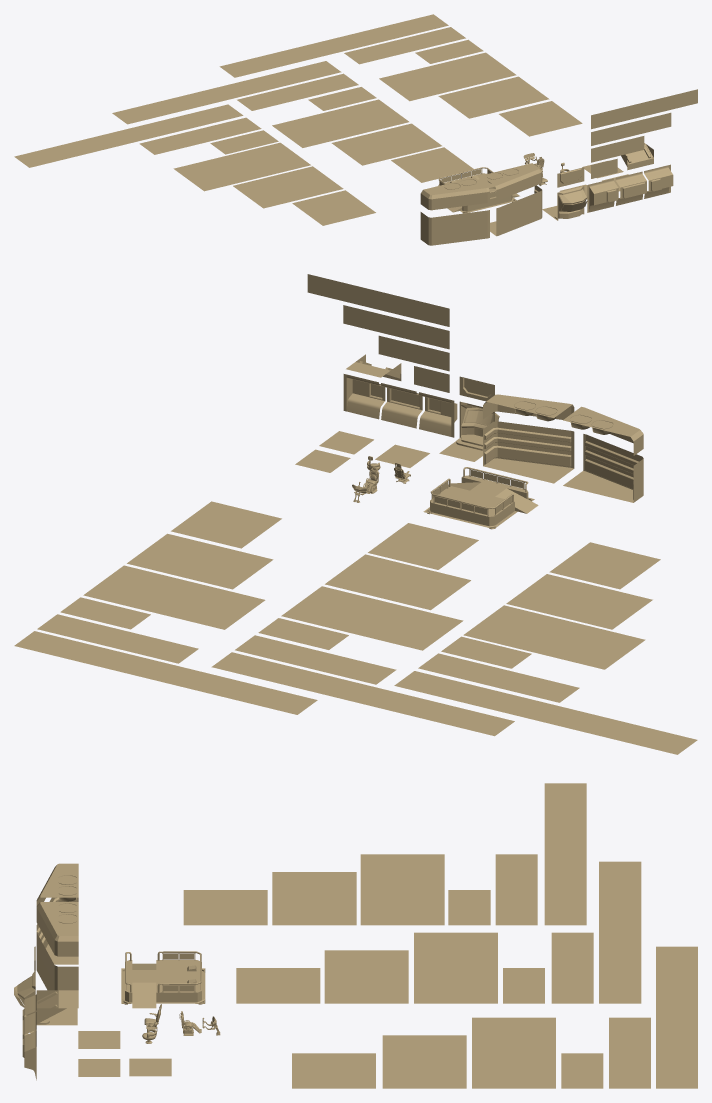
File: Main_Room.fbx
3 views of the same model, one above another, from view 1: azimuth 30°, elevation 25°; view 2: azimuth 150°, elevation 25°; view 3: azimuth 270°, elevation 25° (orthographic). The views are drawn at different scales.
Parts seen in each view (by area): view 1: MR_v9_7, MR_v8_7, MR_v10_7, MR_v9_4, MR_v10_4, MR_v8_4, MR_v9_3, MR_v8_3, MR_v10_3, MR_v2_2, MR_v9_6, MR_v10_6 (+21 smaller); view 2: MR_v9_7, MR_v10_7, MR_v8_7, MR_v8_4, MR_v9_4, MR_v10_4, MR_v2_1, MR_v10_3, MR_v9_3, MR_v8_3, MR_v1_1, MR_v2_2 (+22 smaller); view 3: MR_v8_7, MR_v10_7, MR_v10_4, MR_v9_4, MR_v8_4, MR_v9_7, MR_v9_3, MR_v8_3, MR_v10_3, MR_v1_1, MR_v8_6, MR_v10_6 (+17 smaller).
Boxes of the visible parts, left/top/right/bottom form: MR_v9_7: left=219, top=14, right=448, bottom=77; MR_v8_7: left=112, top=61, right=341, bottom=124; MR_v10_7: left=14, top=104, right=243, bottom=167; MR_v9_4: left=379, top=52, right=516, bottom=101; MR_v10_4: left=173, top=142, right=310, bottom=191; MR_v8_4: left=272, top=99, right=408, bottom=147; MR_v9_3: left=438, top=76, right=549, bottom=118; MR_v8_3: left=331, top=123, right=441, bottom=165; MR_v10_3: left=233, top=166, right=343, bottom=208; MR_v2_2: left=420, top=210, right=489, bottom=245; MR_v9_6: left=344, top=27, right=465, bottom=64; MR_v10_6: left=139, top=117, right=261, bottom=154; MR_v9_7: left=14, top=631, right=317, bottom=714; MR_v10_7: left=394, top=671, right=697, bottom=754; MR_v8_7: left=211, top=652, right=514, bottom=736; MR_v8_4: left=281, top=586, right=463, bottom=650; MR_v9_4: left=83, top=565, right=265, bottom=629; MR_v10_4: left=463, top=605, right=645, bottom=669; MR_v2_1: left=483, top=421, right=574, bottom=483; MR_v10_3: left=506, top=574, right=652, bottom=629; MR_v9_3: left=127, top=533, right=273, bottom=589; MR_v8_3: left=325, top=554, right=470, bottom=610; MR_v1_1: left=423, top=467, right=538, bottom=529; MR_v2_2: left=563, top=434, right=643, bottom=502; MR_v8_7: left=599, top=861, right=641, bottom=1003; MR_v10_7: left=544, top=783, right=586, bottom=925; MR_v10_4: left=360, top=854, right=444, bottom=925; MR_v9_4: left=472, top=1017, right=555, bottom=1088; MR_v8_4: left=414, top=932, right=497, bottom=1003; MR_v9_7: left=656, top=946, right=697, bottom=1088; MR_v9_3: left=382, top=1035, right=466, bottom=1088; MR_v8_3: left=324, top=950, right=408, bottom=1003; MR_v10_3: left=272, top=872, right=356, bottom=925; MR_v1_1: left=121, top=951, right=205, bottom=1008; MR_v8_6: left=551, top=932, right=593, bottom=1003; MR_v10_6: left=495, top=854, right=537, bottom=925.
Bounding box in the file's own units: 53.96 × 10.61 × 48.81.
